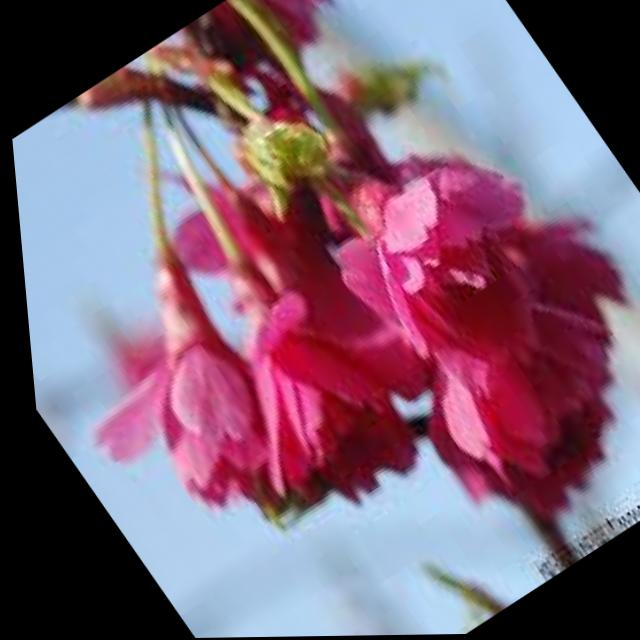Flower: (309, 178, 640, 543), (278, 82, 616, 425), (179, 245, 467, 520)
